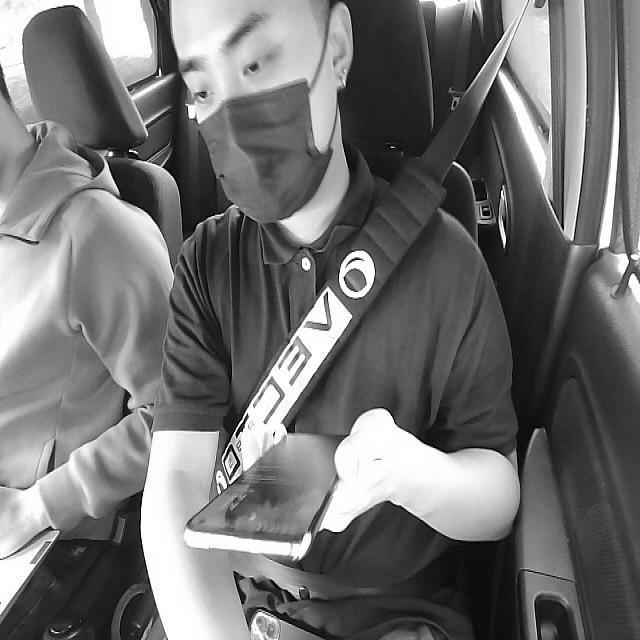phone: (178, 428, 350, 560)
